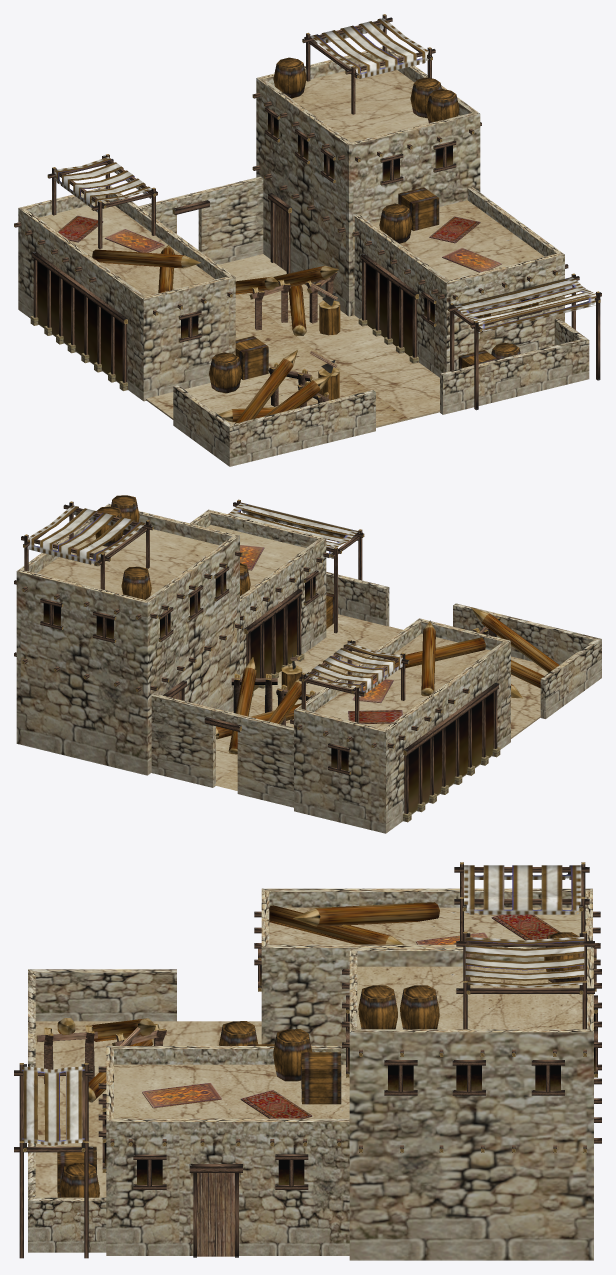
File: arsenal.dae
3 renders of one model, top to bottom at view 1: azimuth 30°, elevation 25°; view 2: azimuth 150°, elevation 25°; view 3: azimuth 270°, elevation 25°, orthographic. The views are drawn at different scales.
Visible parts, largest first — view 1: arsenal; view 2: arsenal; view 3: arsenal.
Part boxes in pixels (bbox=[...]): arsenal: bbox=[14, 14, 601, 466]; arsenal: bbox=[14, 495, 601, 833]; arsenal: bbox=[14, 862, 601, 1260].
Size of the model in its own units: 25.43 by 25.76 by 13.36.
